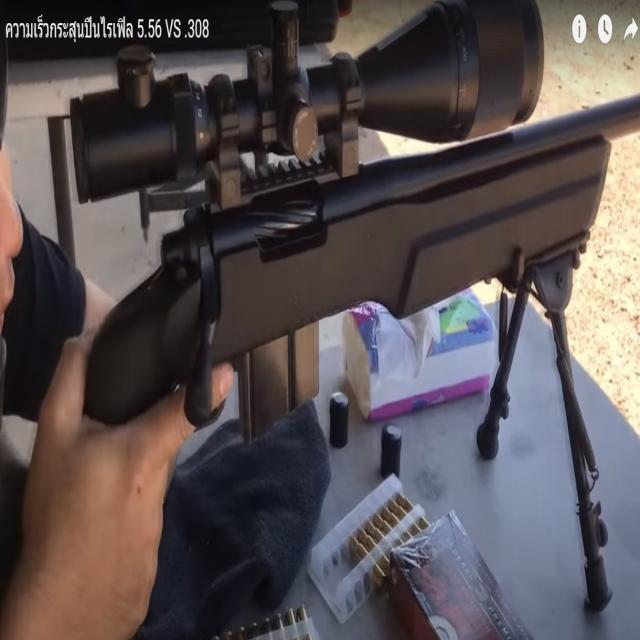rifle: (57, 11, 617, 621)
